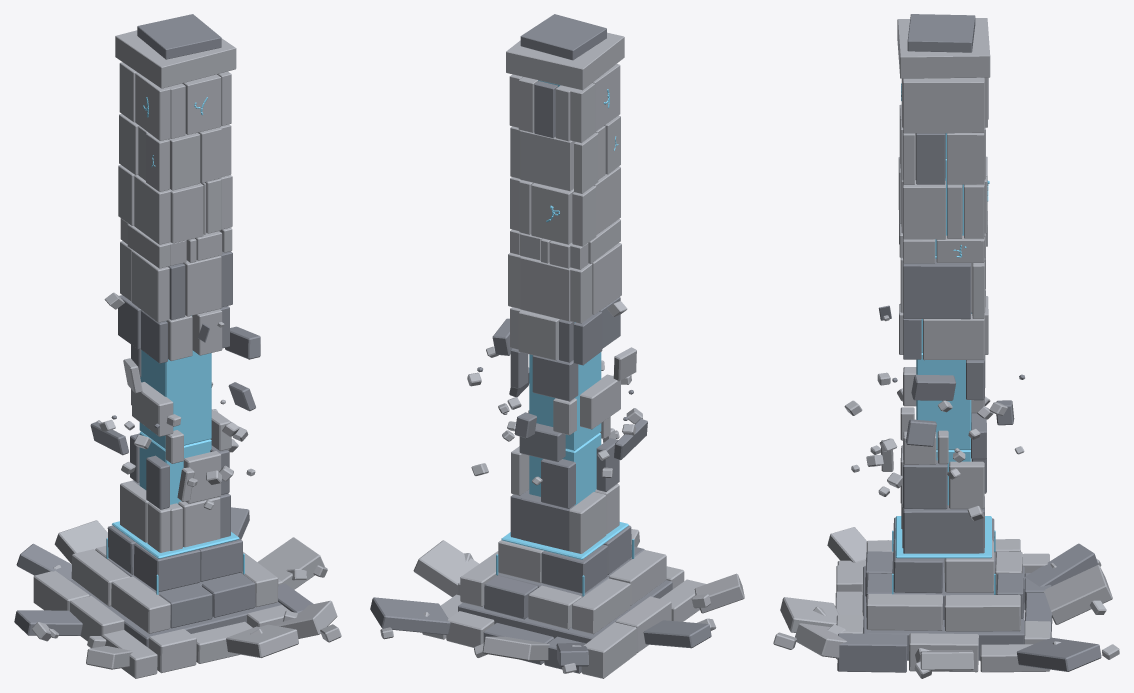
Rendered from Pilar_Monolito.fbx.
3 views of the same model, side by side, from view 1: azimuth 30°, elevation 25°; view 2: azimuth 150°, elevation 25°; view 3: azimuth 270°, elevation 25° (orthographic). The views are drawn at different scales.
Visible parts, largest first — view 1: Base, Bloco_5, Bloco_3, Bloco_2, Bloco_1, Bloco_4; view 2: Base, Bloco_5, Bloco_2, Bloco_3, Bloco_1, Bloco_4; view 3: Base, Bloco_5, Bloco_2, Bloco_1, Bloco_3, Bloco_4.
Boxes of the visible parts, left/top/right/bottom form: Base: left=14, top=507, right=341, bottom=678; Bloco_5: left=115, top=14, right=236, bottom=191; Bloco_3: left=104, top=241, right=232, bottom=363; Bloco_2: left=90, top=326, right=260, bottom=463; Bloco_1: left=120, top=421, right=255, bottom=552; Bloco_4: left=118, top=165, right=232, bottom=268; Base: left=370, top=522, right=744, bottom=678; Bloco_5: left=506, top=14, right=624, bottom=193; Bloco_2: left=467, top=318, right=647, bottom=461; Bloco_3: left=508, top=243, right=627, bottom=365; Bloco_1: left=471, top=428, right=619, bottom=553; Bloco_4: left=510, top=166, right=620, bottom=269; Base: left=773, top=516, right=1119, bottom=678; Bloco_5: left=897, top=14, right=990, bottom=184; Bloco_2: left=844, top=353, right=1024, bottom=464; Bloco_1: left=851, top=440, right=1024, bottom=553; Bloco_3: left=878, top=247, right=988, bottom=360; Bloco_4: left=898, top=156, right=989, bottom=263.
Bounding box in the file's own units: 6.99 × 13.6 × 7.11.
